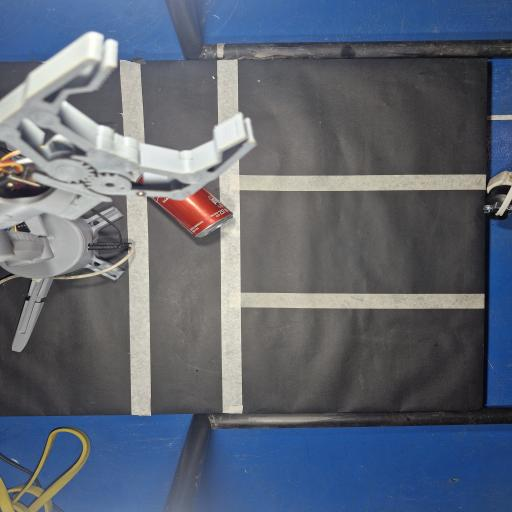lata: (151, 188, 233, 238)
